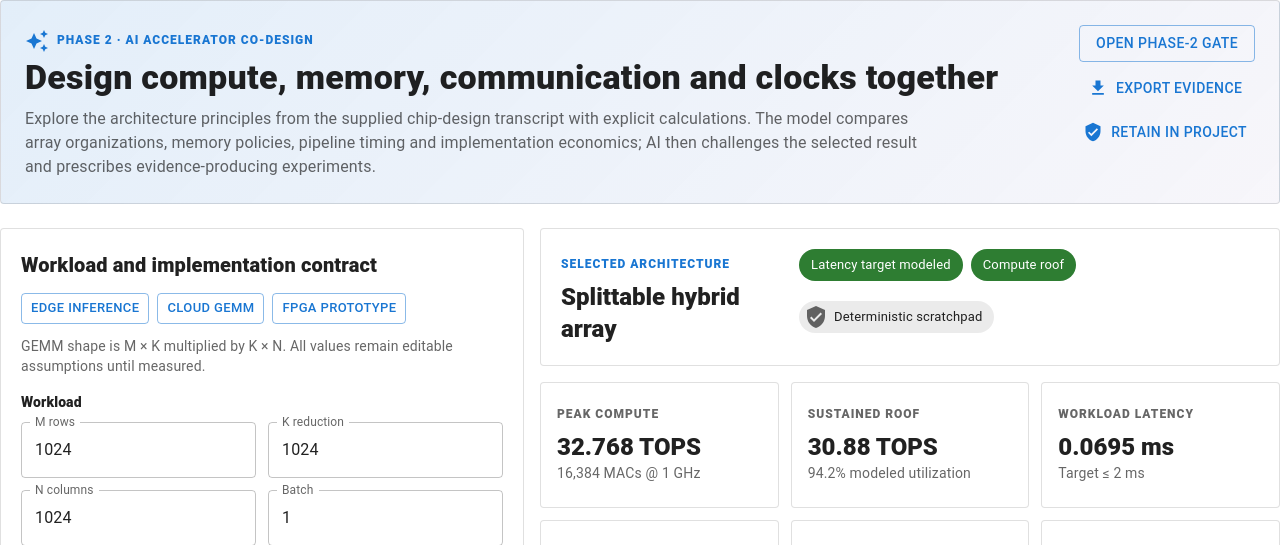
Scenario: AcceleratorArchitectureLab › retains the bounded calculation and optional AI review as phase-2 project evidence
The width and height of the screenshot is (1280, 545).
Click the button "Retain in project": (1167, 132) [1079,114,1255,150]
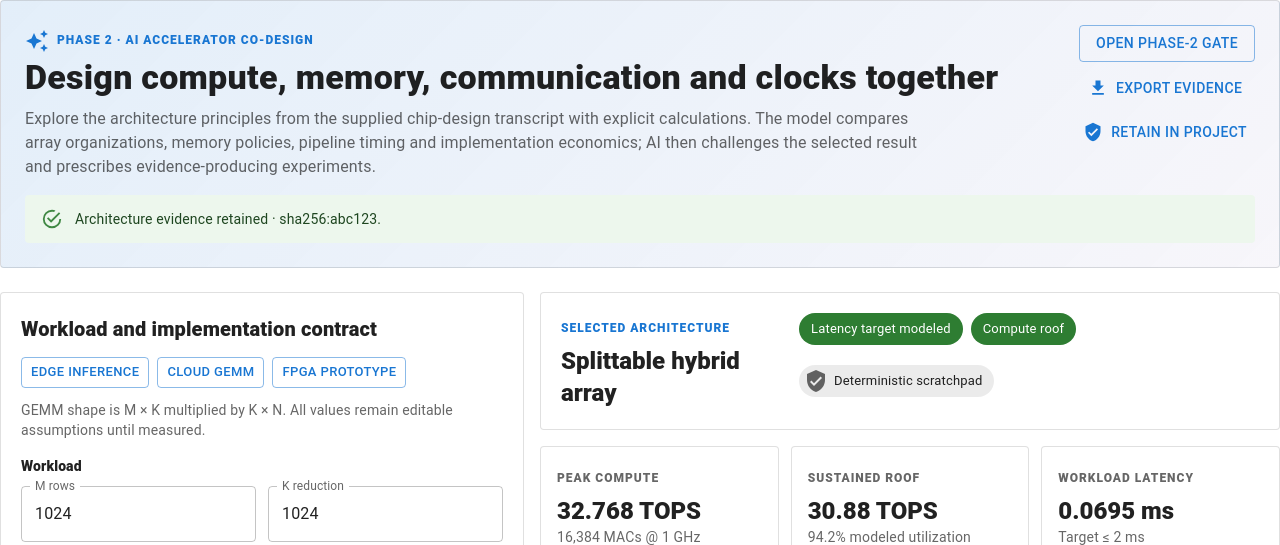
Result: the text "Architecture evidence retained · sha256:abc123." is shown at [75,211,381,227]
